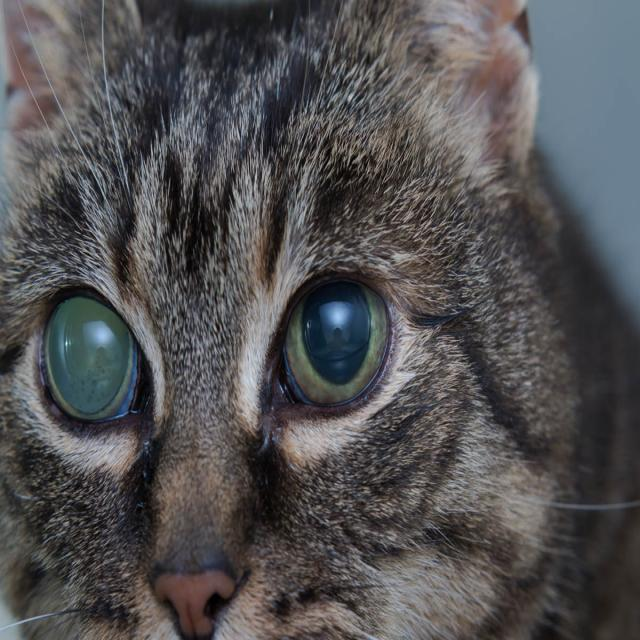cat-eye: (26, 253, 167, 451)
cat-eye-normal: (258, 252, 409, 452)
